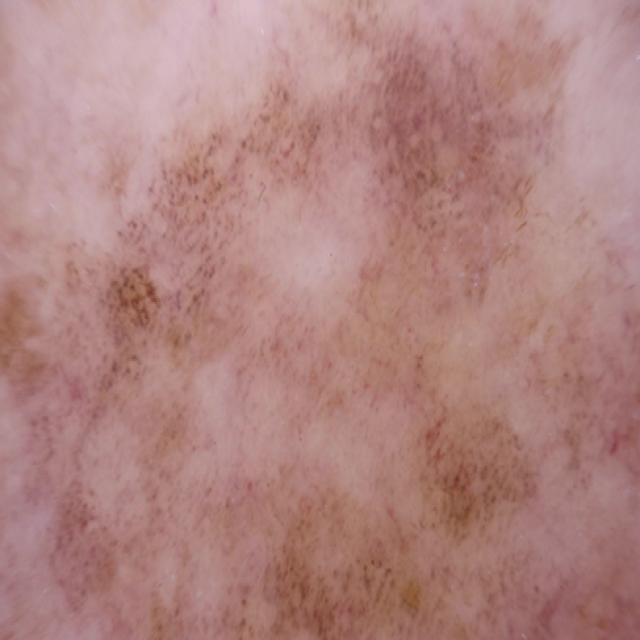Keratosis: (294, 64, 510, 486), (42, 288, 303, 589), (393, 425, 640, 640)
